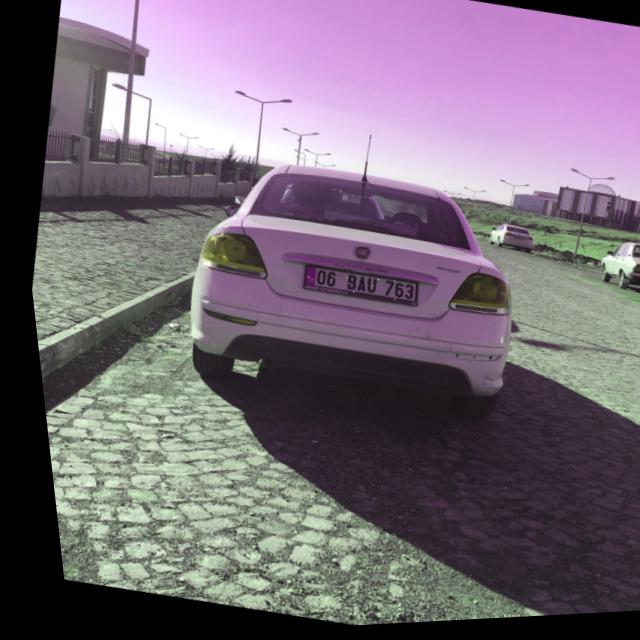license_plate: (294, 263, 412, 311)
